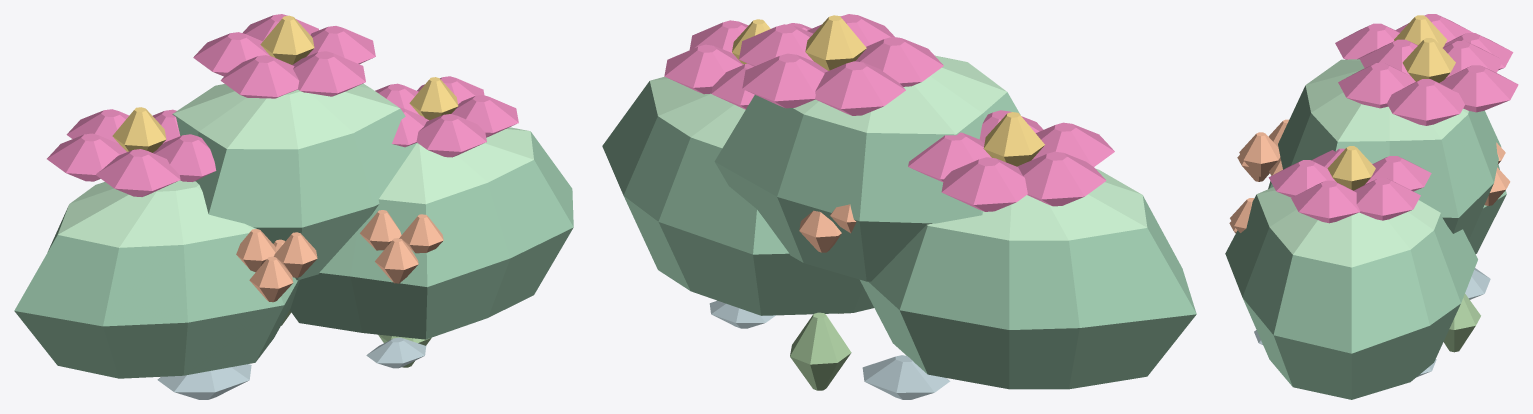
The model's file is lagoon_shrub_salmonberry_a.glb.
The picture shows the model from 3 angles, left to right: view 1: azimuth 30°, elevation 25°; view 2: azimuth 150°, elevation 25°; view 3: azimuth 270°, elevation 25°; orthographic projection. The views are drawn at different scales.
Parts seen in each view (by area): view 1: lagoon_shrub_salmonberry_a.001; view 2: lagoon_shrub_salmonberry_a.001; view 3: lagoon_shrub_salmonberry_a.001.
Part boxes in pixels (x1,y1,x2,y2): lagoon_shrub_salmonberry_a.001: (14, 14, 573, 399); lagoon_shrub_salmonberry_a.001: (602, 14, 1196, 399); lagoon_shrub_salmonberry_a.001: (1225, 14, 1518, 399).
Bounding box in the file's own units: 3.55 × 1.98 × 1.7.
